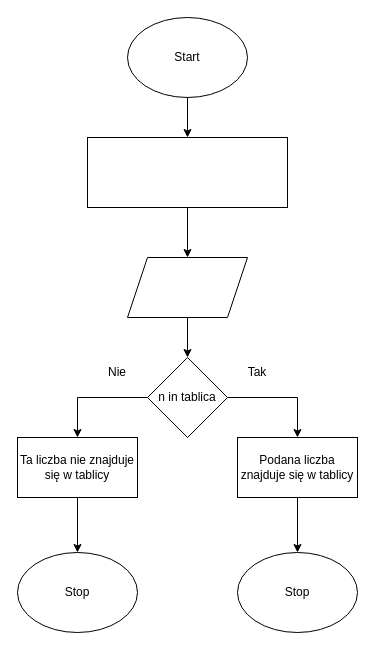
Some shapes in this 375 by 650 pixel diagram are drawn without their labels. The centre of each missing label's shape, as x and y in pixels:
"Podaj n" goes at (x=187, y=287).
"t = [1, 2, 3, -5, -25, 120, 525, 210, 0]" goes at (x=187, y=172).
